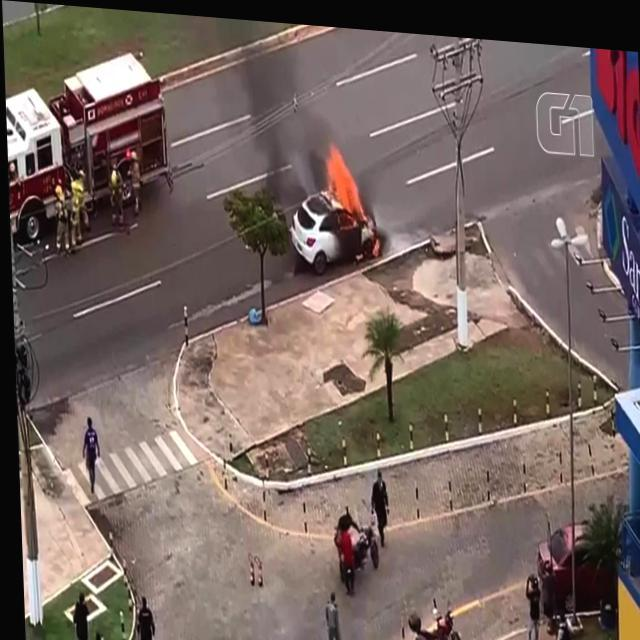Fire: (320, 138, 365, 213), (369, 232, 380, 252)
